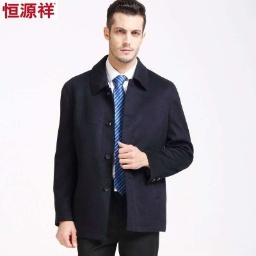face: (103, 1, 148, 63)
